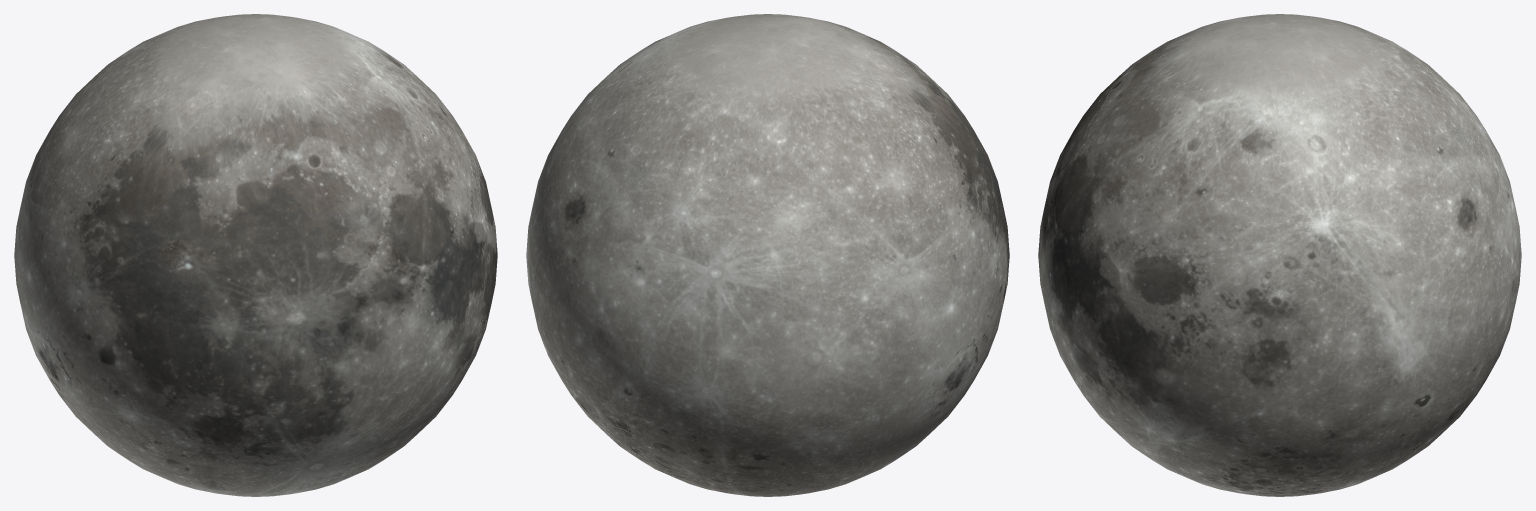
Rendered from moon_pbrmr.gltf.
3 views of the same model, side by side, from view 1: azimuth 30°, elevation 25°; view 2: azimuth 150°, elevation 25°; view 3: azimuth 270°, elevation 25° (orthographic).
Visible parts, largest first — view 1: moon_low; view 2: moon_low; view 3: moon_low.
Boxes of the visible parts, x1,y1,x2,y2 form: moon_low: (14,14,497,496); moon_low: (526,14,1009,496); moon_low: (1038,14,1521,496).
Bounding box in the file's own units: 2 × 2 × 2.
1 material, 1 textured.
